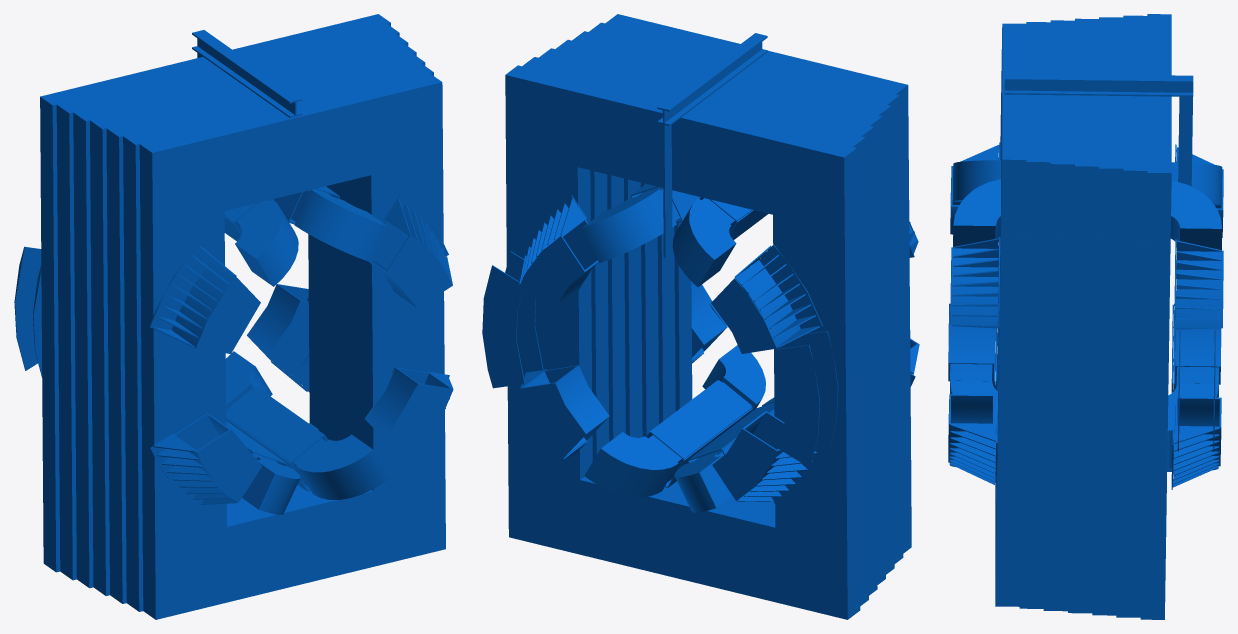
Rendered from DIPO.glb.
The picture shows the model from 3 angles, left to right: view 1: azimuth 30°, elevation 25°; view 2: azimuth 150°, elevation 25°; view 3: azimuth 270°, elevation 25°; orthographic projection. The views are drawn at different scales.
Visible parts, largest first — view 1: DYokeBaseBlock0_1.003, DYokeBaseBlock0_1.001, DSideBlock_0.001, DSideBlock_6.003, DSideBlock_3.001, DSideBlock_6.001, DSideBlock_1.001, DSideBlock_5.001, DSideBlock_2.001, DSideBlock_4.001, DYokeBaseBlock6_1.003, DYokeBaseBlock5_1.003 (+38 smaller); view 2: DYokeBaseBlock6_1.003, DYokeBaseBlock6_1.001, DSideBlock_6.001, DSideBlock_0.003, DYokeBaseBlock5_1.003, DYokeBaseBlock4_1.003, DYokeBaseBlock3_1.003, DYokeBaseBlock2_1.003, DYokeBaseBlock1_1.003, DYokeBaseBlock0_1.003, DC11_2.001, DC10_2.003 (+40 smaller); view 3: DSideBlock_6.003, DSideBlock_0.003, DSideBlock_3.003, DSideBlock_2.003, DSideBlock_4.003, DSideBlock_1.003, DSideBlock_5.003, DYokeBaseBlock6_1.003, DYokeBaseBlock5_1.003, DYokeBaseBlock4_1.003, DYokeBaseBlock0_1.003, DYokeBaseBlock2_1.003 (+28 smaller).
Part boxes in pixels (x1,y1,x2,y2): DYokeBaseBlock0_1.003: (139,73,442,228); DYokeBaseBlock0_1.001: (142,474,445,619); DSideBlock_0.001: (140,211,226,544); DSideBlock_6.003: (358,157,445,490); DSideBlock_3.001: (90,196,109,520); DSideBlock_6.001: (40,172,59,496); DSideBlock_1.001: (123,212,142,536); DSideBlock_5.001: (57,180,76,504); DSideBlock_2.001: (107,204,125,528); DSideBlock_4.001: (74,188,92,512); DYokeBaseBlock6_1.003: (40,14,390,180); DYokeBaseBlock5_1.003: (56,24,399,188); DYokeBaseBlock6_1.003: (505,65,857,232); DYokeBaseBlock6_1.001: (508,462,860,619); DSideBlock_6.001: (773,215,859,544); DSideBlock_0.003: (506,149,592,479); DYokeBaseBlock5_1.003: (522,57,865,218); DYokeBaseBlock4_1.003: (539,48,874,207); DYokeBaseBlock3_1.003: (555,39,882,196); DYokeBaseBlock2_1.003: (572,31,891,186); DYokeBaseBlock1_1.003: (589,22,900,176); DYokeBaseBlock0_1.003: (605,14,908,165); DC11_2.001: (584,432,678,497); DC10_2.003: (482,265,524,388); DSideBlock_6.003: (996,217,1025,534); DSideBlock_0.003: (1141,245,1170,547); DSideBlock_3.003: (1069,238,1097,541); DSideBlock_2.003: (1093,240,1121,543); DSideBlock_4.003: (1045,236,1073,538); DSideBlock_1.003: (1117,241,1146,545); DSideBlock_5.003: (1020,234,1049,536); DYokeBaseBlock6_1.003: (1146,14,1171,245); DYokeBaseBlock5_1.003: (1122,15,1147,243); DYokeBaseBlock4_1.003: (1098,17,1123,240); DYokeBaseBlock0_1.003: (1001,23,1026,232); DYokeBaseBlock2_1.003: (1049,20,1074,236).
Size of the model in its own units: 688 by 935 by 503.
